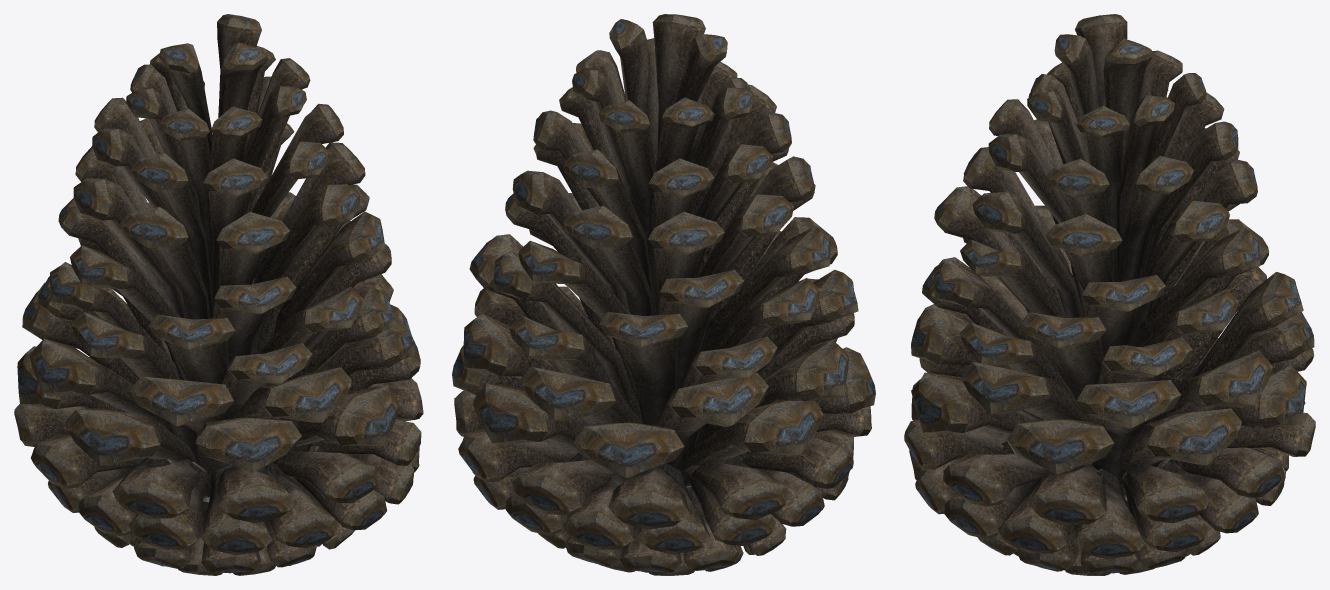
The model's file is pine cone.fbx.
3 views of the same model, side by side, from view 1: azimuth 30°, elevation 25°; view 2: azimuth 150°, elevation 25°; view 3: azimuth 270°, elevation 25° (orthographic). The views are drawn at different scales.
Parts seen in each view (by area): view 1: p c_l_014, p c_l_010, p c_l_08, p c_l_016, p c_l_09, p c_l_07, p c_l_013, p c_l_015, p c_l_012, p c_l_011, p c_l_05, p c_l_04; view 2: p c_l_016, p c_l_08, p c_l_010, p c_l_014, p c_l_09, p c_l_015, p c_l_012, p c_l_013, p c_l_07, p c_l_011, p c_l_05, p c_l_04; view 3: p c_l_010, p c_l_016, p c_l_08, p c_l_09, p c_l_014, p c_l_015, p c_l_07, p c_l_013, p c_l_011, p c_l_012, p c_l_05, p c_l_04.
Boxes of the visible parts, <box> form: p c_l_014: <box>73,118,365,354</box>; p c_l_010: <box>22,274,414,434</box>; p c_l_08: <box>14,357,423,523</box>; p c_l_016: <box>126,14,310,288</box>; p c_l_09: <box>17,287,420,484</box>; p c_l_07: <box>48,446,419,555</box>; p c_l_013: <box>58,184,385,380</box>; p c_l_015: <box>92,76,343,318</box>; p c_l_012: <box>50,192,391,384</box>; p c_l_011: <box>37,202,395,486</box>; p c_l_05: <box>94,476,354,573</box>; p c_l_04: <box>130,496,321,575</box>; p c_l_016: <box>572,14,754,314</box>; p c_l_08: <box>454,390,871,529</box>; p c_l_010: <box>463,278,854,468</box>; p c_l_014: <box>512,123,814,353</box>; p c_l_09: <box>452,286,875,479</box>; p c_l_015: <box>533,84,791,315</box>; p c_l_012: <box>493,193,837,425</box>; p c_l_013: <box>505,162,830,388</box>; p c_l_07: <box>472,431,853,554</box>; p c_l_011: <box>469,230,858,446</box>; p c_l_05: <box>538,486,786,572</box>; p c_l_04: <box>599,545,754,575</box>; p c_l_010: <box>911,267,1314,435</box>; p c_l_016: <box>1027,14,1206,281</box>; p c_l_08: <box>904,338,1315,525</box>; p c_l_09: <box>911,313,1314,474</box>; p c_l_014: <box>963,119,1257,345</box>; p c_l_015: <box>988,90,1238,291</box>; p c_l_07: <box>909,441,1288,559</box>; p c_l_013: <box>934,186,1259,380</box>; p c_l_011: <box>922,205,1303,481</box>; p c_l_012: <box>934,219,1268,400</box>; p c_l_05: <box>977,484,1220,573</box>; p c_l_04: <box>1014,495,1189,575</box>.
Bounding box in the file's own units: 316 × 442 × 317.
Materials: 8 (8 with a texture image).
